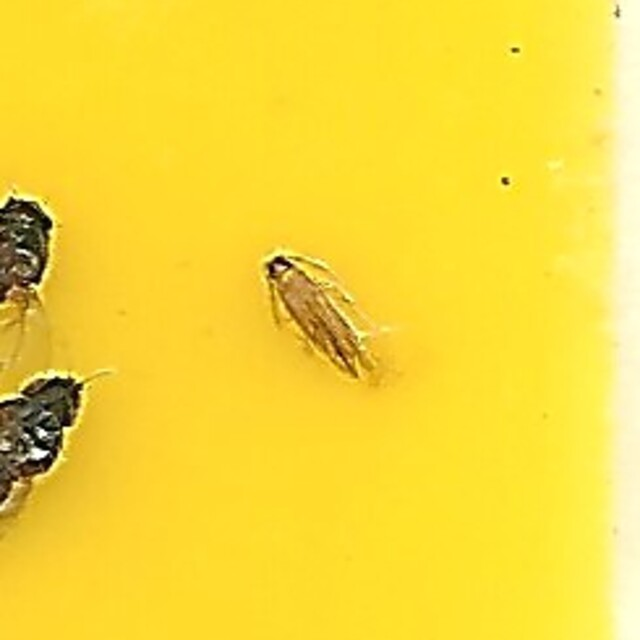Trichoptera: (261, 240, 379, 400)
